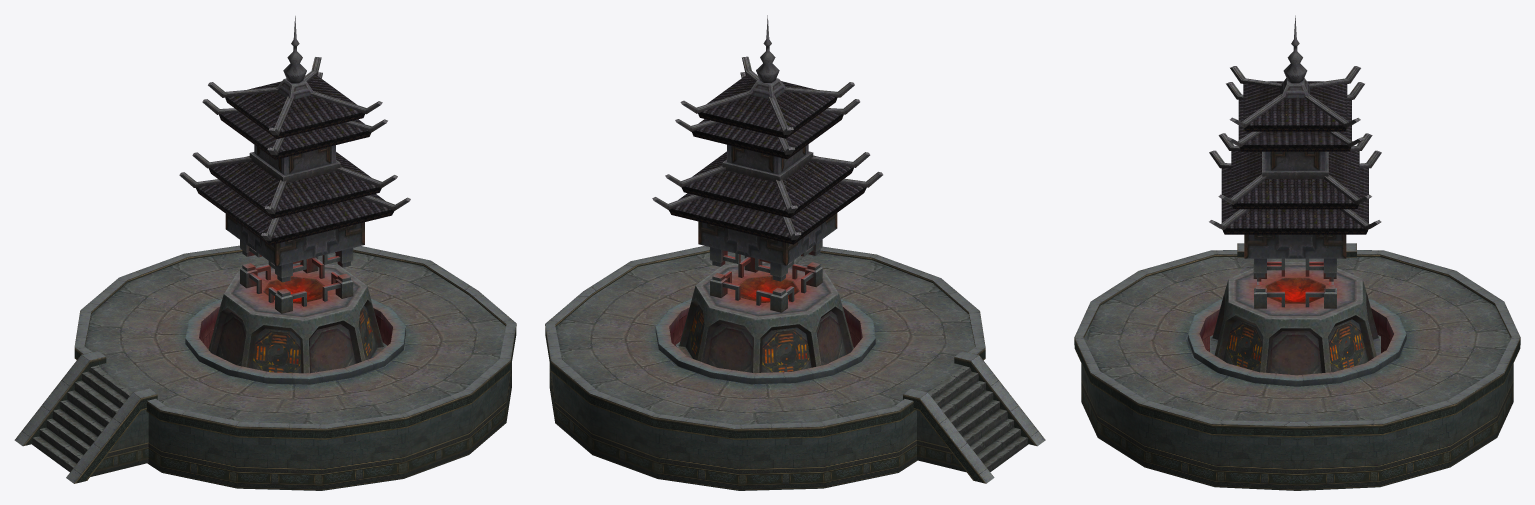
File: environment_Building_yingdi_hantianta_002_a.FBX
3 views of the same model, side by side, from view 1: azimuth 30°, elevation 25°; view 2: azimuth 150°, elevation 25°; view 3: azimuth 270°, elevation 25° (orthographic).
Visible parts, largest first — view 1: environment_Building_yingdi_hantianta_002_a07, environment_Building_yingdi_hantianta_002_a10, environment_Building_yingdi_hantianta_002_a01, environment_Building_yingdi_hantianta_002_a06, environment_Building_yingdi_hantianta_002_a09, environment_Building_yingdi_hantianta_002_a02, environment_Building_yingdi_hantianta_002_a05, environment_Building_yingdi_hantianta_002_a04, environment_Building_yingdi_hantianta_002_a03; view 2: environment_Building_yingdi_hantianta_002_a07, environment_Building_yingdi_hantianta_002_a10, environment_Building_yingdi_hantianta_002_a01, environment_Building_yingdi_hantianta_002_a06, environment_Building_yingdi_hantianta_002_a09, environment_Building_yingdi_hantianta_002_a02, environment_Building_yingdi_hantianta_002_a05, environment_Building_yingdi_hantianta_002_a04, environment_Building_yingdi_hantianta_002_a03; view 3: environment_Building_yingdi_hantianta_002_a07, environment_Building_yingdi_hantianta_002_a10, environment_Building_yingdi_hantianta_002_a01, environment_Building_yingdi_hantianta_002_a06, environment_Building_yingdi_hantianta_002_a09, environment_Building_yingdi_hantianta_002_a02, environment_Building_yingdi_hantianta_002_a04, environment_Building_yingdi_hantianta_002_a03.
Boxes of the visible parts, x1=… form: environment_Building_yingdi_hantianta_002_a07: x1=85, y1=252, x2=505, y2=424; environment_Building_yingdi_hantianta_002_a10: x1=90, y1=363, x2=511, y2=490; environment_Building_yingdi_hantianta_002_a01: x1=208, y1=240, x2=387, y2=373; environment_Building_yingdi_hantianta_002_a06: x1=196, y1=75, x2=394, y2=245; environment_Building_yingdi_hantianta_002_a09: x1=14, y1=245, x2=516, y2=483; environment_Building_yingdi_hantianta_002_a02: x1=225, y1=16, x2=364, y2=266; environment_Building_yingdi_hantianta_002_a05: x1=32, y1=365, x2=132, y2=471; environment_Building_yingdi_hantianta_002_a04: x1=185, y1=298, x2=405, y2=384; environment_Building_yingdi_hantianta_002_a03: x1=179, y1=57, x2=410, y2=240; environment_Building_yingdi_hantianta_002_a07: x1=555, y1=251, x2=975, y2=424; environment_Building_yingdi_hantianta_002_a10: x1=549, y1=363, x2=966, y2=490; environment_Building_yingdi_hantianta_002_a01: x1=675, y1=239, x2=853, y2=372; environment_Building_yingdi_hantianta_002_a06: x1=669, y1=75, x2=866, y2=244; environment_Building_yingdi_hantianta_002_a09: x1=545, y1=245, x2=1045, y2=483; environment_Building_yingdi_hantianta_002_a02: x1=698, y1=15, x2=837, y2=265; environment_Building_yingdi_hantianta_002_a05: x1=928, y1=365, x2=1028, y2=471; environment_Building_yingdi_hantianta_002_a04: x1=655, y1=298, x2=875, y2=384; environment_Building_yingdi_hantianta_002_a03: x1=652, y1=56, x2=883, y2=240; environment_Building_yingdi_hantianta_002_a07: x1=1084, y1=257, x2=1510, y2=421; environment_Building_yingdi_hantianta_002_a10: x1=1081, y1=363, x2=1513, y2=490; environment_Building_yingdi_hantianta_002_a01: x1=1210, y1=258, x2=1380, y2=375; environment_Building_yingdi_hantianta_002_a06: x1=1221, y1=81, x2=1368, y2=234; environment_Building_yingdi_hantianta_002_a09: x1=1074, y1=243, x2=1520, y2=437; environment_Building_yingdi_hantianta_002_a02: x1=1244, y1=15, x2=1346, y2=258; environment_Building_yingdi_hantianta_002_a04: x1=1188, y1=299, x2=1406, y2=386; environment_Building_yingdi_hantianta_002_a03: x1=1209, y1=66, x2=1381, y2=230.
Bounding box in the file's own units: 1158 × 1030 × 991.
Materials: 10 (10 with a texture image).
